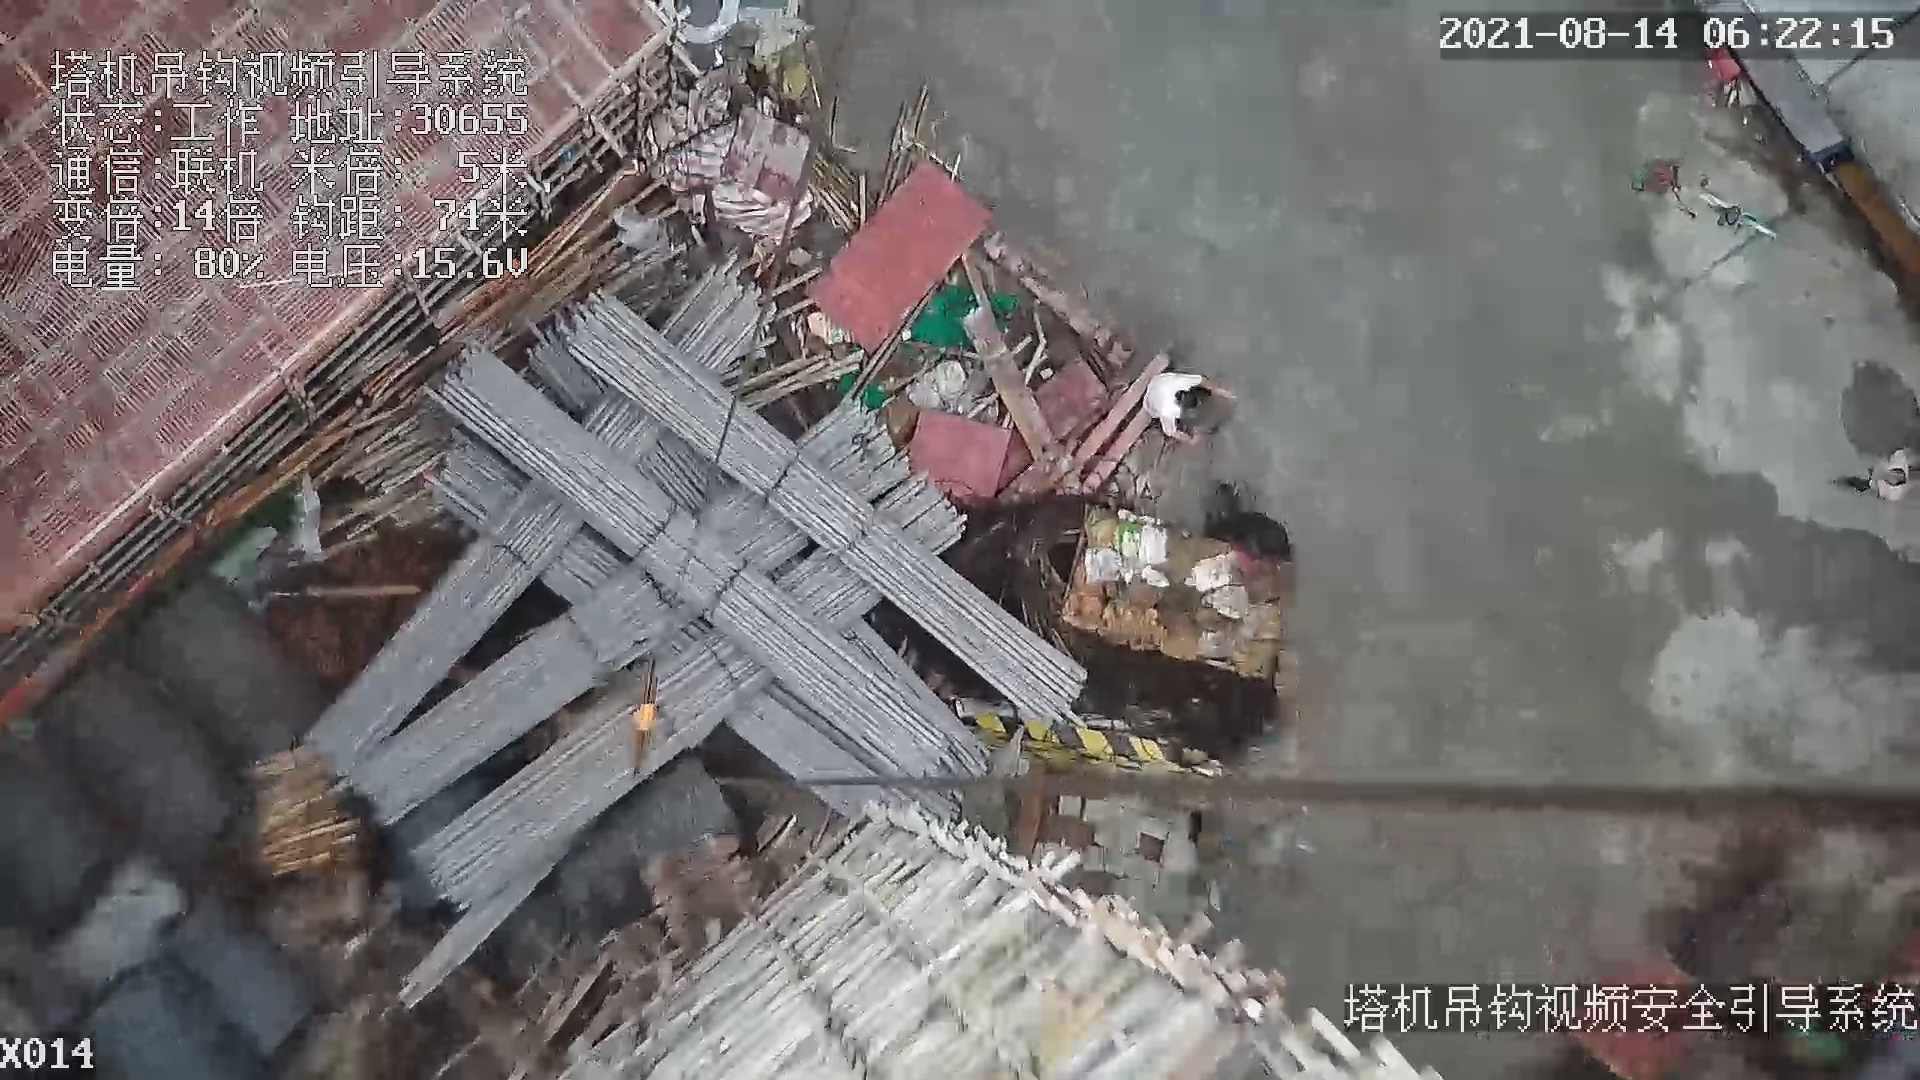hook: (632, 655, 667, 775)
